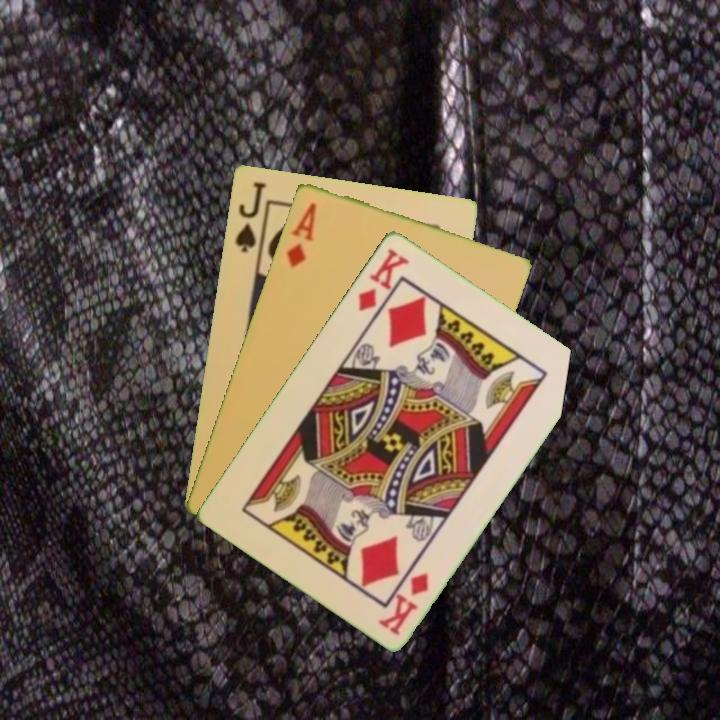Ad: (282, 198, 319, 271)
Js: (231, 177, 269, 255)
Kd: (354, 244, 412, 314), (375, 568, 432, 638)
